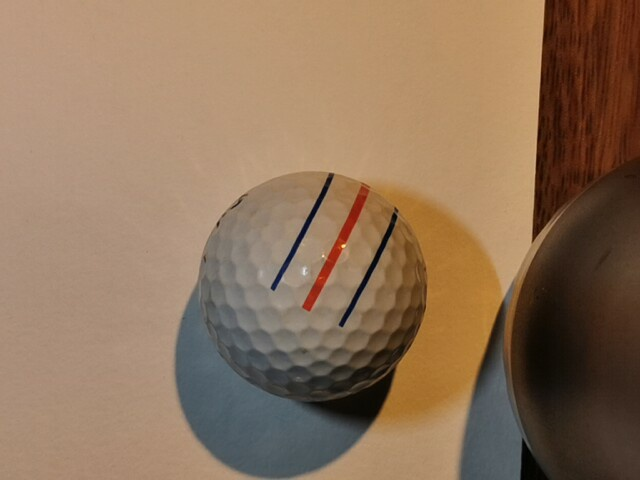Ball: (197, 170, 427, 403)
